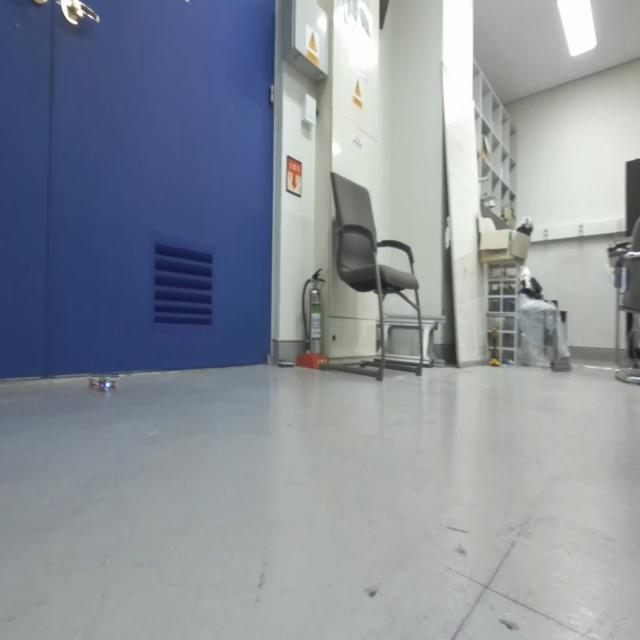crazyflie: (85, 370, 119, 397)
